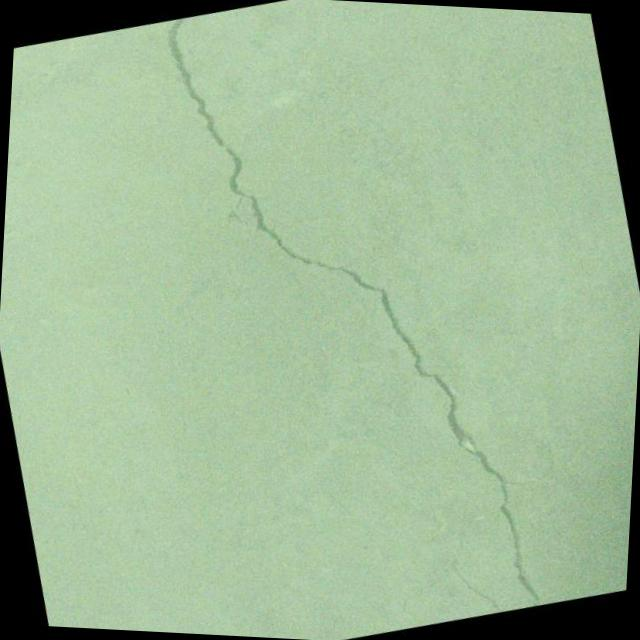crack: (132, 0, 573, 640), (439, 516, 514, 622), (384, 530, 457, 632)
